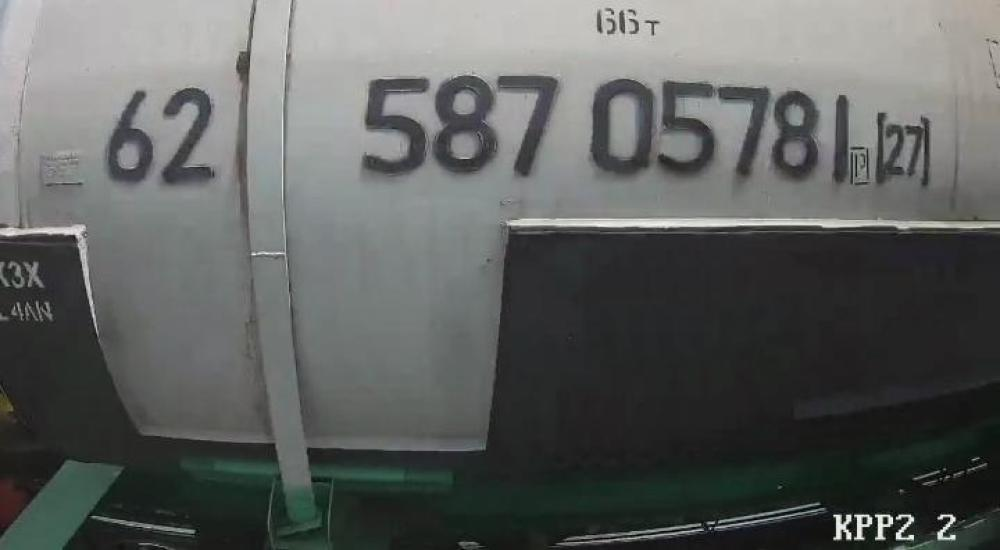Wagon-number: (362, 70, 854, 188)
